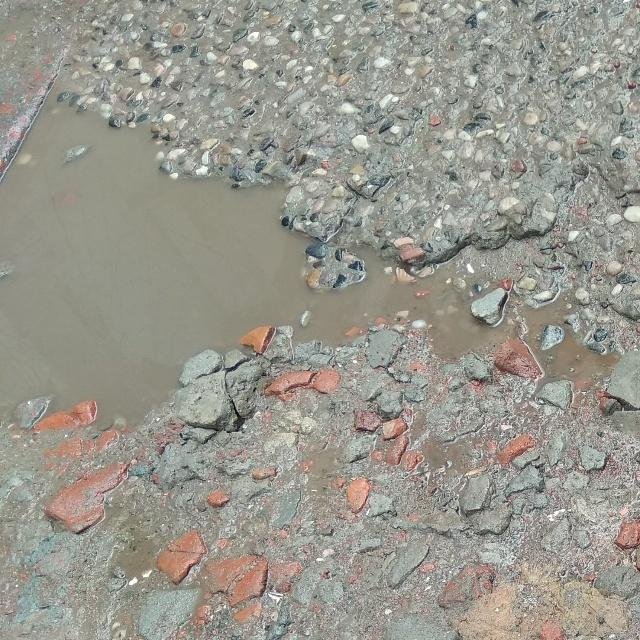Surface Erosion: (0, 17, 640, 598)
